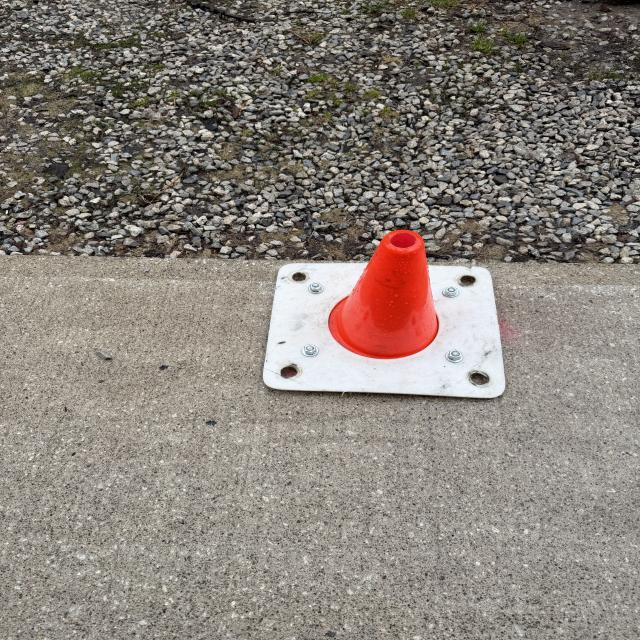Traffic Cone: (261, 228, 509, 400)
